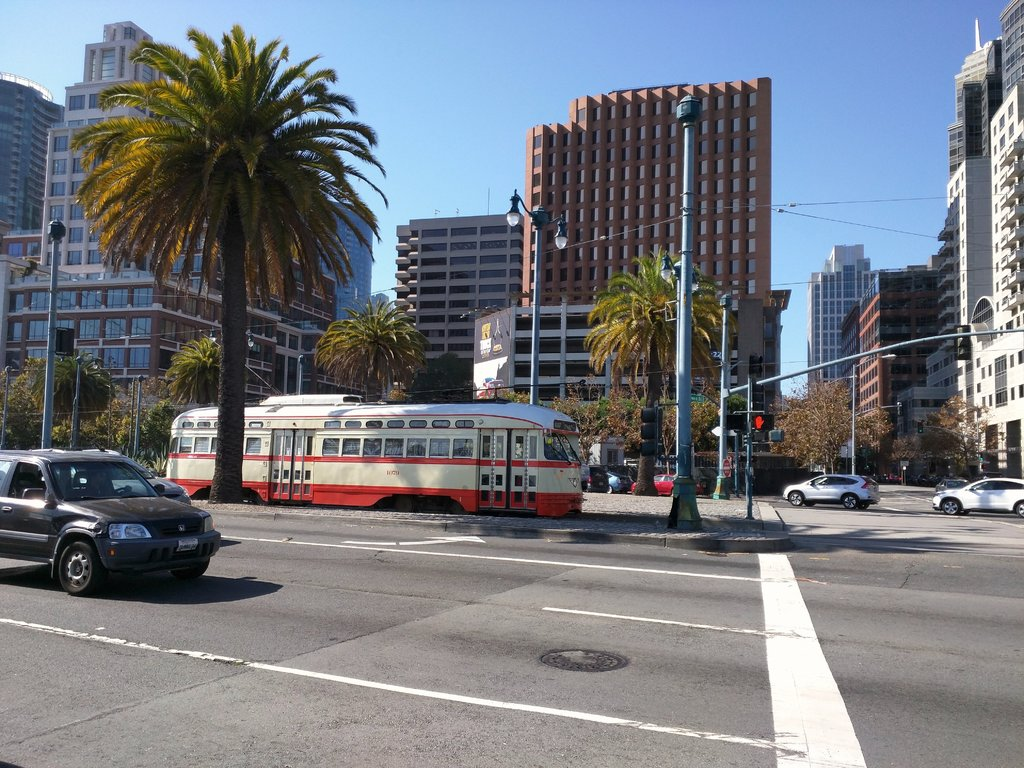Car: (3, 438, 231, 595), (932, 472, 1023, 526), (783, 473, 869, 509)
